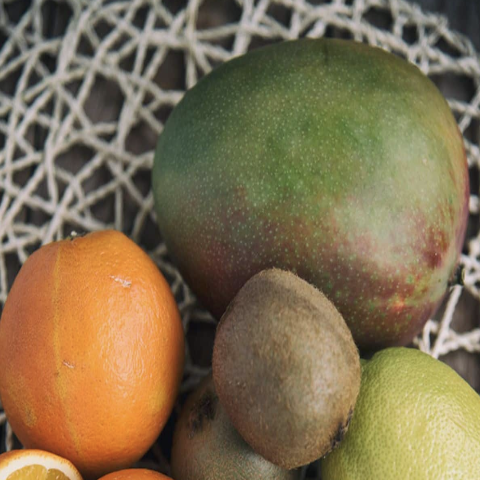kiwi: (117, 32, 480, 347), (213, 259, 359, 471)
orange: (0, 221, 190, 468)
